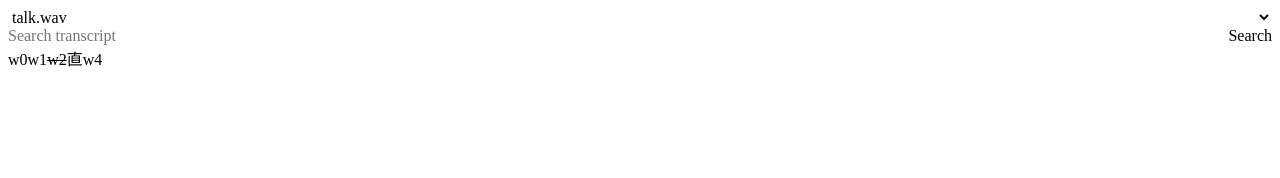
StoryPanel の失敗と再生位置 › シーケンスに入っていない単語は動かさず知らせる
Press the mouse on the button "w0": (18, 60) [8,51,28,68]
Hover over the button "w0": (18, 60) [8,51,28,68]
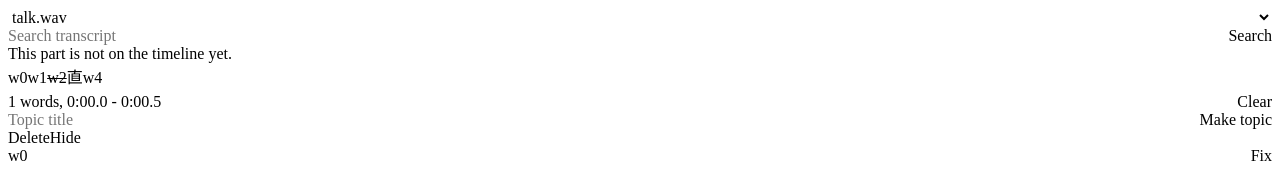
Check: the text with class "mm-story-meta" shows "not on the timeline", box [8,45,232,62]
